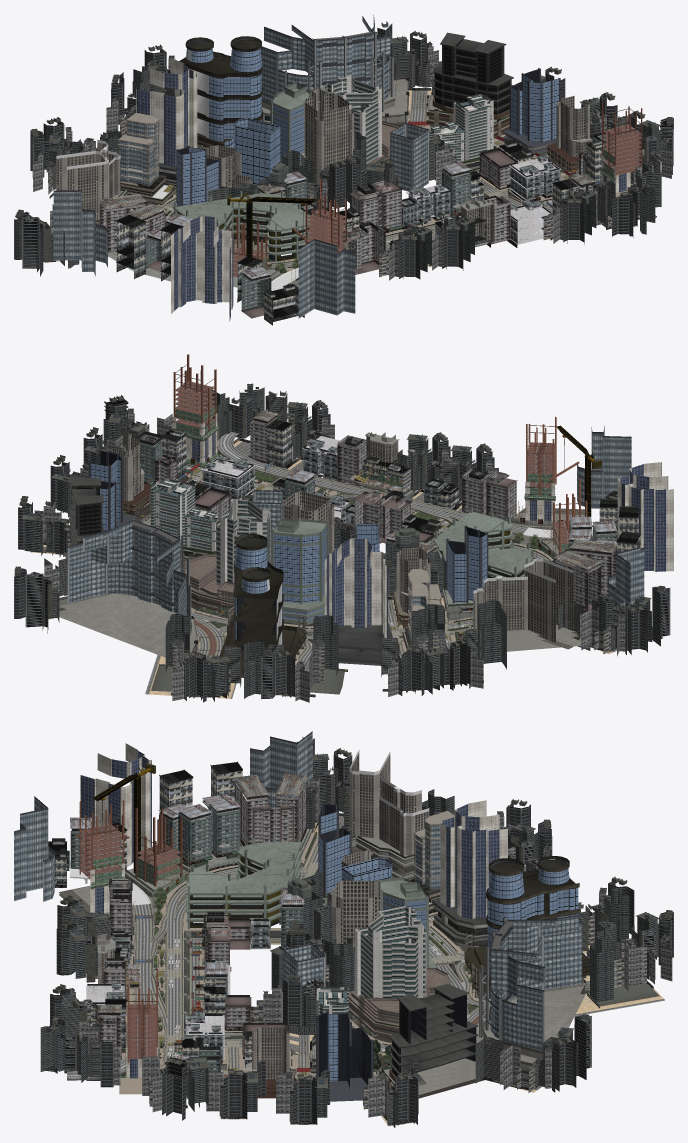
The model's file is city.glb.
3 views of the same model, one above another, from view 1: azimuth 30°, elevation 25°; view 2: azimuth 150°, elevation 25°; view 3: azimuth 270°, elevation 25° (orthographic). The views are drawn at different scales.
Visible parts, largest first — view 1: backdrop_grp_001_mdl_003_sub_000_material_081_0_10, backdrop_grp_001_mdl_005_sub_000_material_081_0_14, unit_025_sub_033_material_045_0_5577, backdrop_grp_001_mdl_006_sub_000_material_081_0_16, unit_015_sub_021_material_037_0_4107, unit_017_sub_013_material_074_0_4267, backdrop_grp_001_mdl_001_sub_000_material_081_0_6, backdrop_grp_001_mdl_002_sub_000_material_081_0_8, unit_011_sub_029_material_061_0_3347, unit_001_sub_038_material_037_0_1122, unit_022_sub_021_material_054_0_5145, unit_020_sub_029_material_045_0_4759 (+63 smaller); view 2: backdrop_grp_001_mdl_006_sub_000_material_081_0_16, backdrop_grp_001_mdl_004_sub_000_material_081_0_12, backdrop_grp_001_mdl_003_sub_000_material_081_0_10, unit_015_sub_021_material_037_0_4107, backdrop_grp_001_mdl_002_sub_000_material_081_0_8, unit_015_sub_000_material_003_0_4065, backdrop_grp_001_mdl_001_sub_000_material_081_0_6, unit_022_sub_021_material_054_0_5145, unit_025_sub_033_material_045_0_5577, unit_019_sub_021_material_045_0_4495, unit_017_sub_018_material_072_0_4277, unit_011_sub_029_material_061_0_3347 (+60 smaller); view 3: backdrop_grp_001_mdl_001_sub_000_material_081_0_6, backdrop_grp_001_mdl_004_sub_000_material_081_0_12, backdrop_grp_001_mdl_003_sub_000_material_081_0_10, backdrop_grp_001_mdl_005_sub_000_material_081_0_14, backdrop_grp_001_mdl_002_sub_000_material_081_0_8, backdrop_grp_001_mdl_006_sub_000_material_081_0_16, unit_015_sub_021_material_037_0_4107, unit_019_sub_021_material_045_0_4495, unit_025_sub_033_material_045_0_5577, unit_022_sub_021_material_054_0_5145, unit_015_sub_022_material_070_0_4109, unit_017_sub_013_material_074_0_4267 (+57 smaller).
Boxes of the visible parts, box(x1,y1,x2,y2) form: backdrop_grp_001_mdl_003_sub_000_material_081_0_10: box(379, 161, 661, 280); backdrop_grp_001_mdl_005_sub_000_material_081_0_14: box(208, 132, 495, 212); unit_025_sub_033_material_045_0_5577: box(171, 216, 233, 321); backdrop_grp_001_mdl_006_sub_000_material_081_0_16: box(14, 117, 121, 276); unit_015_sub_021_material_037_0_4107: box(291, 16, 390, 99); unit_017_sub_013_material_074_0_4267: box(186, 39, 262, 141); backdrop_grp_001_mdl_001_sub_000_material_081_0_6: box(557, 69, 673, 183); backdrop_grp_001_mdl_002_sub_000_material_081_0_8: box(377, 21, 559, 110); unit_011_sub_029_material_061_0_3347: box(429, 94, 493, 163); unit_001_sub_038_material_037_0_1122: box(314, 240, 355, 315); unit_022_sub_021_material_054_0_5145: box(56, 151, 115, 220); unit_020_sub_029_material_045_0_4759: box(136, 68, 183, 166); backdrop_grp_001_mdl_006_sub_000_material_081_0_16: box(381, 585, 670, 696); backdrop_grp_001_mdl_004_sub_000_material_081_0_12: box(145, 614, 347, 702); backdrop_grp_001_mdl_003_sub_000_material_081_0_10: box(211, 383, 498, 510); unit_015_sub_021_material_037_0_4107: box(67, 523, 185, 612); backdrop_grp_001_mdl_002_sub_000_material_081_0_8: box(14, 496, 70, 633); unit_015_sub_000_material_003_0_4065: box(59, 568, 227, 657); backdrop_grp_001_mdl_001_sub_000_material_081_0_6: box(22, 395, 172, 544); unit_022_sub_021_material_054_0_5145: box(483, 561, 573, 642); unit_025_sub_033_material_045_0_5577: box(617, 462, 673, 571); unit_019_sub_021_material_045_0_4495: box(324, 538, 373, 627); unit_017_sub_018_material_072_0_4277: box(220, 533, 296, 677); unit_011_sub_029_material_061_0_3347: box(150, 478, 217, 553); backdrop_grp_001_mdl_001_sub_000_material_081_0_6: box(142, 1056, 400, 1127); backdrop_grp_001_mdl_004_sub_000_material_081_0_12: box(575, 876, 673, 1016); backdrop_grp_001_mdl_003_sub_000_material_081_0_10: box(40, 895, 120, 1087); backdrop_grp_001_mdl_005_sub_000_material_081_0_14: box(250, 864, 354, 1055); backdrop_grp_001_mdl_002_sub_000_material_081_0_8: box(363, 1014, 591, 1126); backdrop_grp_001_mdl_006_sub_000_material_081_0_16: box(296, 736, 552, 871); unit_015_sub_021_material_037_0_4107: box(490, 921, 557, 1051); unit_019_sub_021_material_045_0_4495: box(444, 803, 507, 919); unit_025_sub_033_material_045_0_5577: box(80, 743, 151, 866); unit_022_sub_021_material_054_0_5145: box(349, 753, 400, 851); unit_015_sub_022_material_070_0_4109: box(354, 912, 426, 997); unit_017_sub_013_material_074_0_4267: box(487, 859, 578, 969).
Bounding box in the file's own units: 14.22 × 2.76 × 12.12.
Materials: 100 (99 with a texture image).
